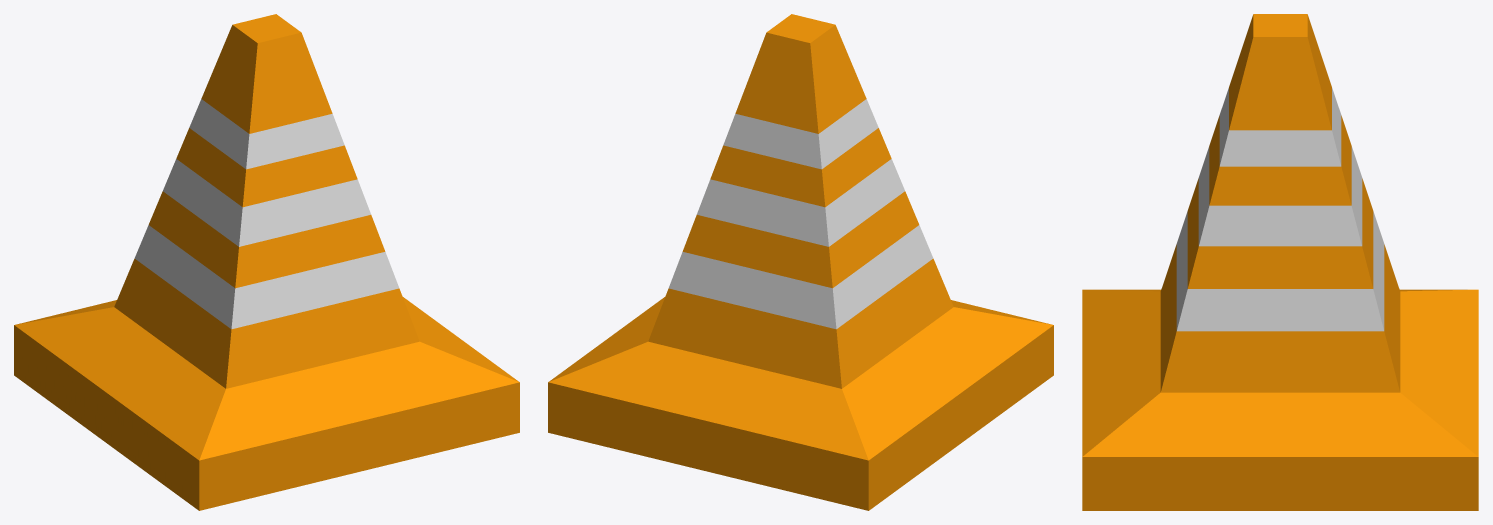
3 views of the same model, side by side, from view 1: azimuth 30°, elevation 25°; view 2: azimuth 150°, elevation 25°; view 3: azimuth 270°, elevation 25° (orthographic). The views are drawn at different scales.
Parts seen in each view (by area): view 1: White; view 2: White; view 3: White.
Boxes of the visible parts, <box> form: White: <box>14,14,519,510</box>; White: <box>548,14,1053,510</box>; White: <box>1082,14,1478,510</box>.
Bounding box in the file's own units: 200 × 224 × 200.
